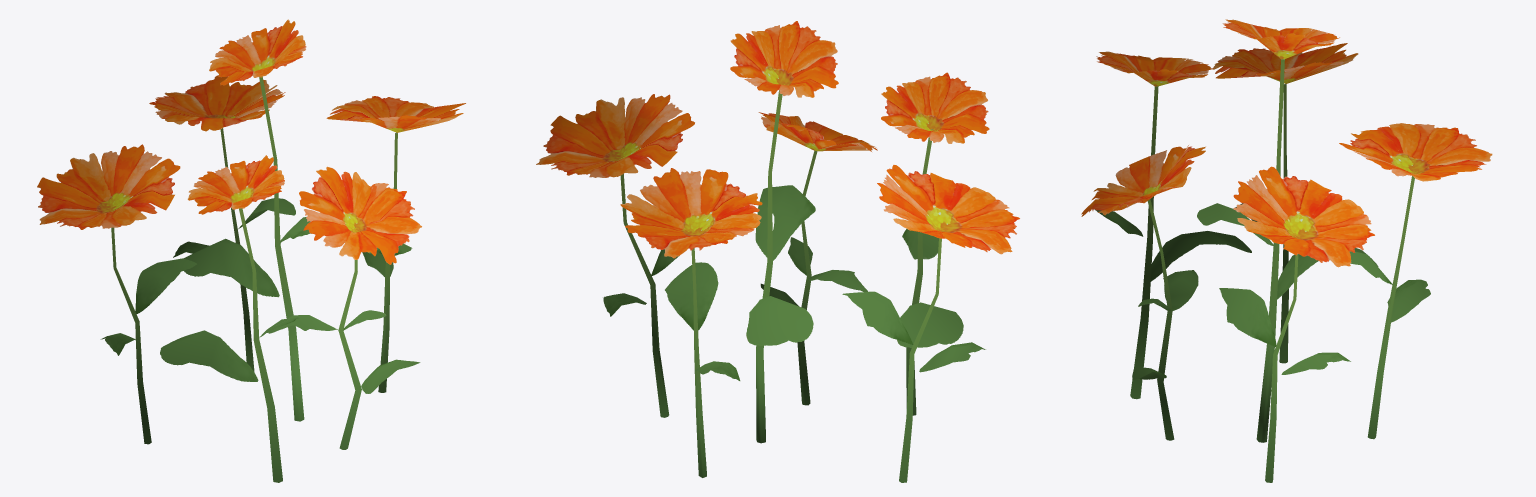
The model's file is FlowersF_Cluster.fbx.
The picture shows the model from 3 angles, left to right: view 1: azimuth 30°, elevation 25°; view 2: azimuth 150°, elevation 25°; view 3: azimuth 270°, elevation 25°; orthographic projection. The views are drawn at different scales.
Visible parts, largest first — view 1: FlowerF_ClusterLOD0; view 2: FlowerF_ClusterLOD0; view 3: FlowerF_ClusterLOD0.
Part boxes in pixels (bbox=[...]): FlowerF_ClusterLOD0: bbox=[37, 19, 465, 482]; FlowerF_ClusterLOD0: bbox=[536, 21, 1019, 482]; FlowerF_ClusterLOD0: bbox=[1081, 19, 1492, 482].
Size of what is drawn, in the model's own units: 94.21 by 76.85 by 79.1.
